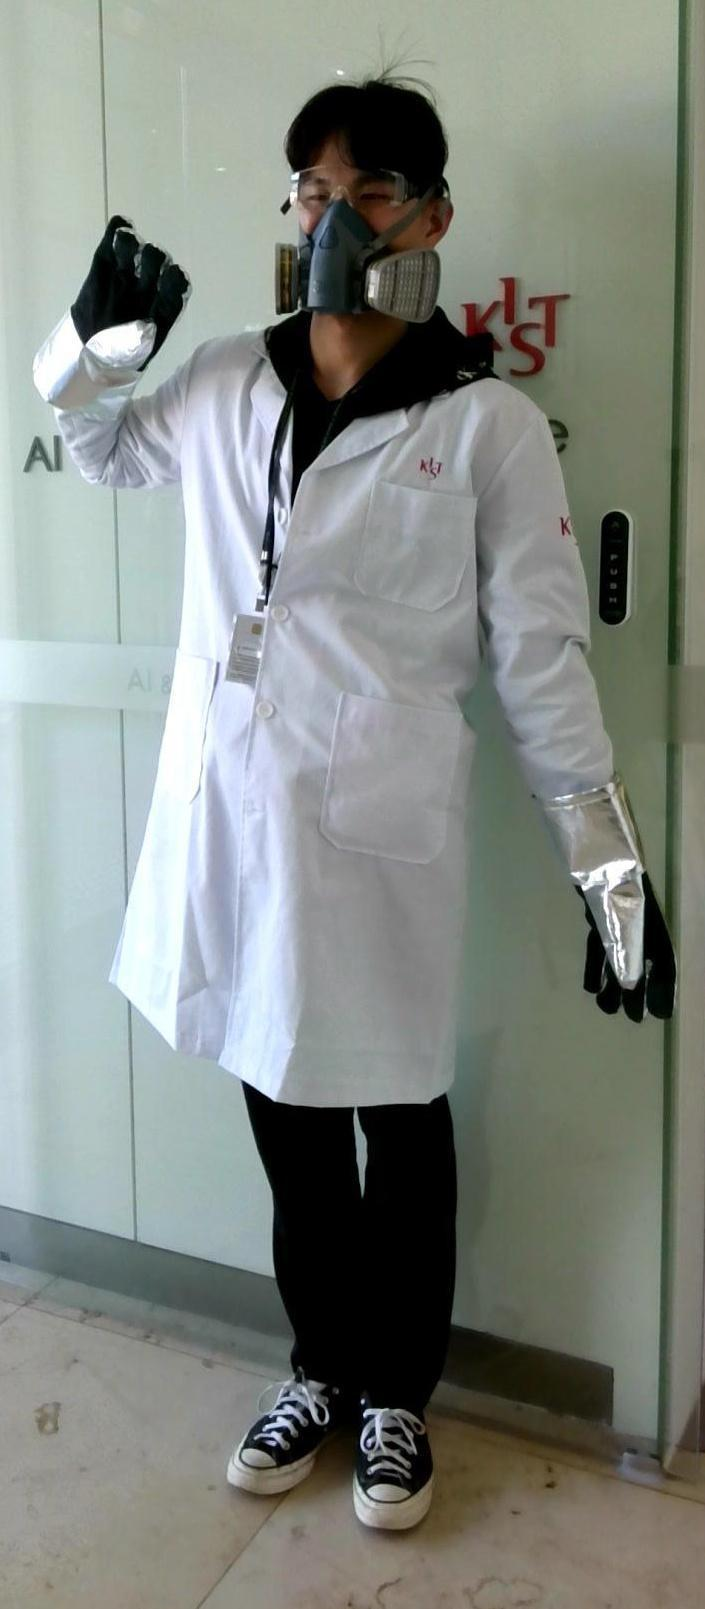lab_coat: (99, 404, 541, 1059)
